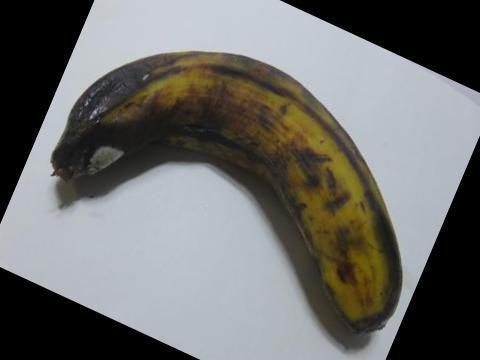overripe: (50, 43, 407, 344)
rotten: (30, 46, 161, 206)
